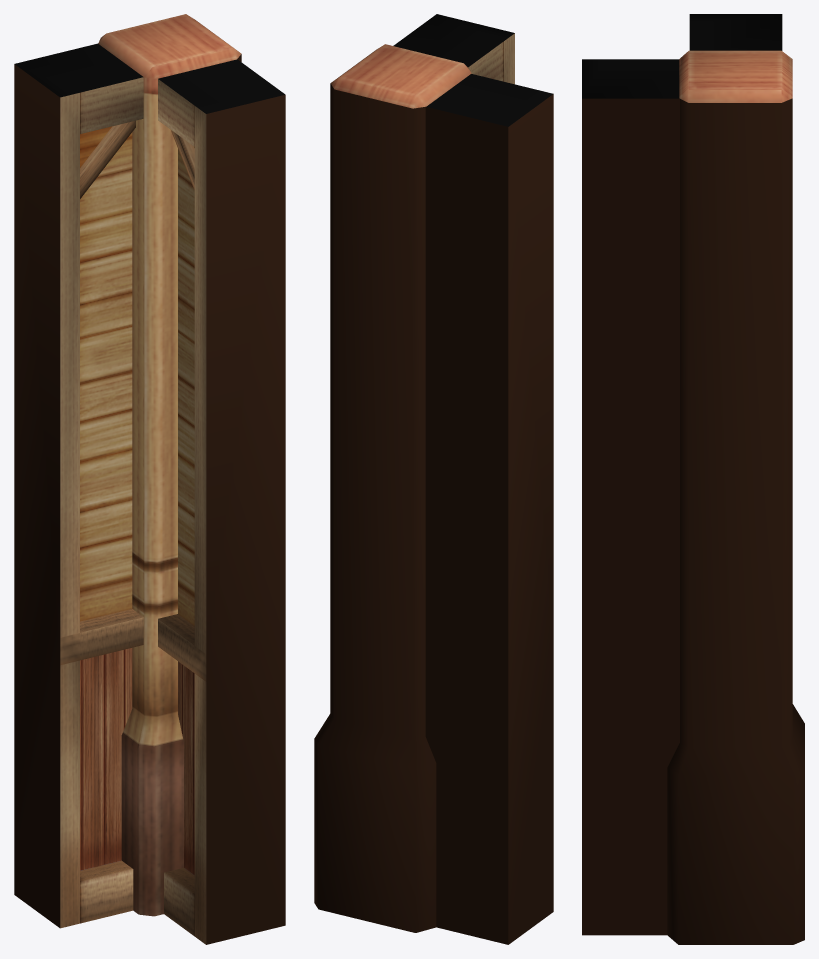
Rendered from a_SWGcwall03A.glb.
The picture shows the model from 3 angles, left to right: view 1: azimuth 30°, elevation 25°; view 2: azimuth 150°, elevation 25°; view 3: azimuth 270°, elevation 25°; orthographic projection. The views are drawn at different scales.
Visible parts, largest first — view 1: a_SWGcwall03A; view 2: a_SWGcwall03A; view 3: a_SWGcwall03A.
Part boxes in pixels (bbox=[...]): a_SWGcwall03A: bbox=[14, 14, 285, 944]; a_SWGcwall03A: bbox=[314, 14, 553, 944]; a_SWGcwall03A: bbox=[582, 14, 804, 944].
Bounding box in the file's own units: 0.7239 × 3.03 × 0.7239.
Materials: 3 (3 with a texture image).
